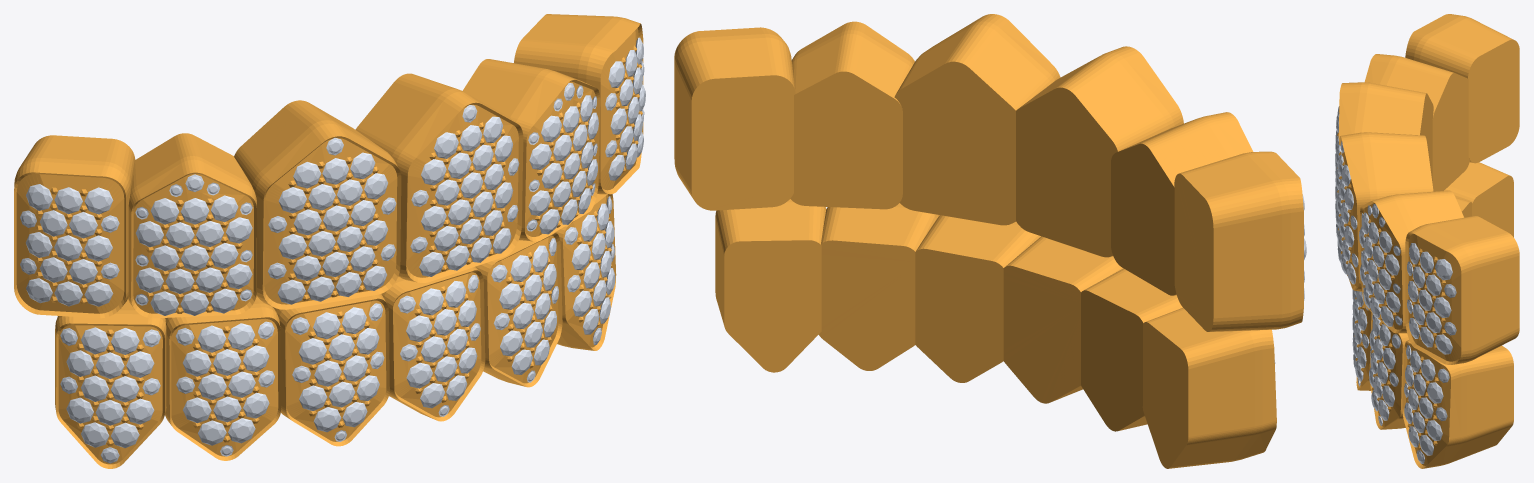
File: grillz_detailed.obj
3 renders of one model, left to right at view 1: azimuth 30°, elevation 25°; view 2: azimuth 150°, elevation 25°; view 3: azimuth 270°, elevation 25°, orthographic. The views are drawn at different scales.
Visible parts, largest first — view 1: Grillz_Gold, Grillz_Diamonds; view 2: Grillz_Gold; view 3: Grillz_Gold, Grillz_Diamonds.
Part boxes in pixels (left/top/right/bottom): Grillz_Gold: left=14, top=14, right=643, bottom=468; Grillz_Diamonds: left=20, top=37, right=645, bottom=463; Grillz_Gold: left=674, top=14, right=1303, bottom=468; Grillz_Gold: left=1337, top=14, right=1519, bottom=468; Grillz_Diamonds: left=1335, top=106, right=1456, bottom=463.
Size of the model in its own units: 1.62 by 0.8103 by 0.5125.
